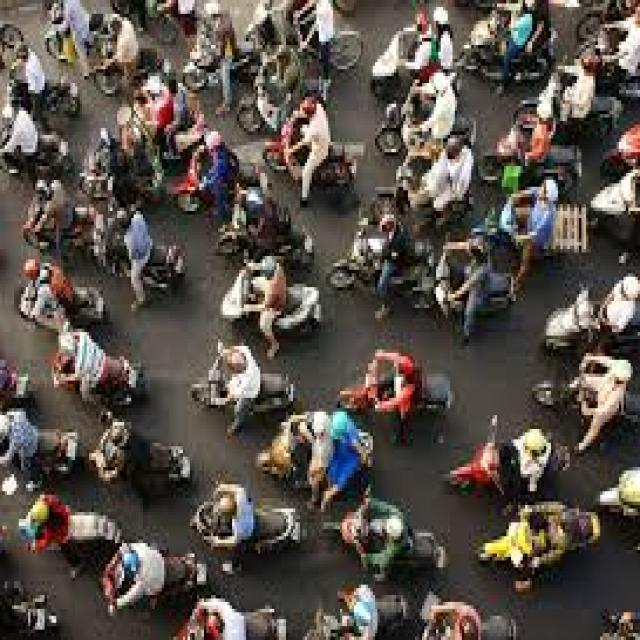With_helmet: (342, 590, 382, 637), (555, 495, 595, 539), (108, 194, 144, 237), (211, 483, 239, 538), (520, 421, 554, 464), (115, 540, 146, 587), (254, 244, 285, 291), (195, 607, 236, 640), (200, 120, 228, 167), (225, 341, 255, 383), (604, 357, 640, 392), (32, 164, 57, 214), (30, 491, 54, 540), (379, 506, 408, 546), (449, 607, 484, 640), (293, 91, 325, 125), (534, 172, 564, 207), (469, 224, 492, 268), (615, 272, 640, 310), (0, 96, 26, 132), (376, 205, 401, 242), (534, 92, 556, 133), (398, 353, 421, 392), (17, 253, 49, 281), (241, 182, 267, 215), (58, 332, 83, 366), (309, 412, 333, 446), (270, 38, 297, 68), (442, 135, 473, 160), (106, 418, 134, 445), (106, 10, 128, 44), (430, 67, 455, 96), (14, 32, 35, 66), (204, 2, 227, 33), (413, 11, 432, 40), (578, 48, 598, 75)
